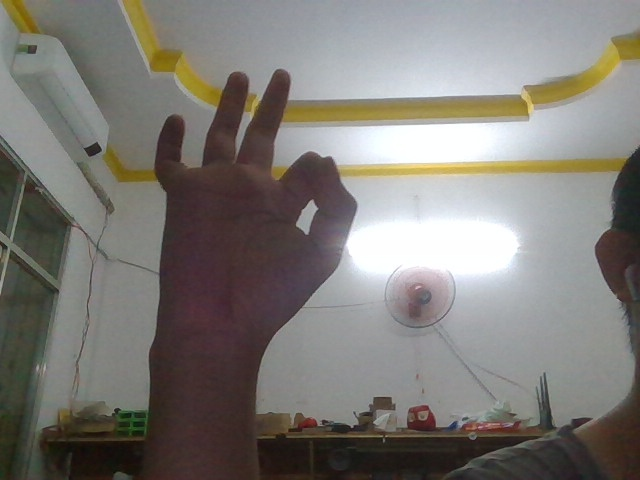okay: (127, 45, 369, 386)
